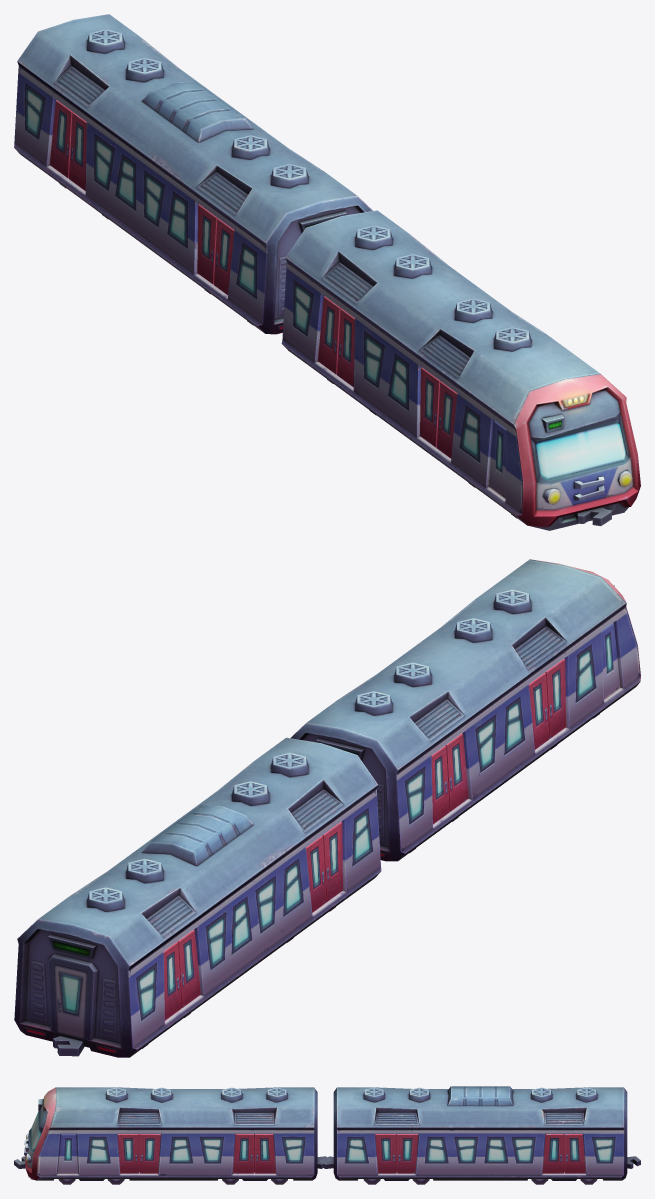
Rendered from M_Train_01.fbx.
3 renders of one model, top to bottom at view 1: azimuth 30°, elevation 25°; view 2: azimuth 150°, elevation 25°; view 3: azimuth 270°, elevation 25°, orthographic. The views are drawn at different scales.
Parts seen in each view (by area): view 1: Train_01_A, Train_01_B, D02_L, D01_L, D03_L, D04_L, D01_R, D03_R, D02_R, D04_R; view 2: Train_01_B, Train_01_A, D01_R, D02_R, D03_R, D04_R, D01_L, D02_L, D03_L, D04_L; view 3: Train_01_B, Train_01_A.
Part boxes in pixels (bbox=[...]): Train_01_A: bbox=[281, 210, 640, 530]; Train_01_B: bbox=[14, 14, 372, 334]; D02_L: bbox=[318, 296, 340, 374]; D01_L: bbox=[420, 367, 440, 447]; D03_L: bbox=[197, 204, 217, 284]; D04_L: bbox=[49, 100, 72, 178]; D01_R: bbox=[436, 381, 457, 458]; D03_R: bbox=[214, 218, 234, 294]; D02_R: bbox=[337, 308, 354, 387]; D04_R: bbox=[69, 112, 86, 190]; Train_01_B: bbox=[14, 737, 381, 1057]; Train_01_A: bbox=[290, 559, 640, 861]; D01_R: bbox=[545, 658, 566, 738]; D02_R: bbox=[445, 733, 468, 811]; D03_R: bbox=[322, 821, 342, 901]; D04_R: bbox=[177, 930, 200, 1007]; D01_L: bbox=[529, 673, 549, 749]; D02_L: bbox=[431, 745, 449, 824]; D03_L: bbox=[306, 836, 326, 912]; D04_L: bbox=[163, 942, 181, 1020]; Train_01_B: bbox=[320, 1086, 640, 1184]; Train_01_A: bbox=[14, 1087, 330, 1184].
Bounding box in the file's own units: 4.39 × 4.84 × 33.3.
